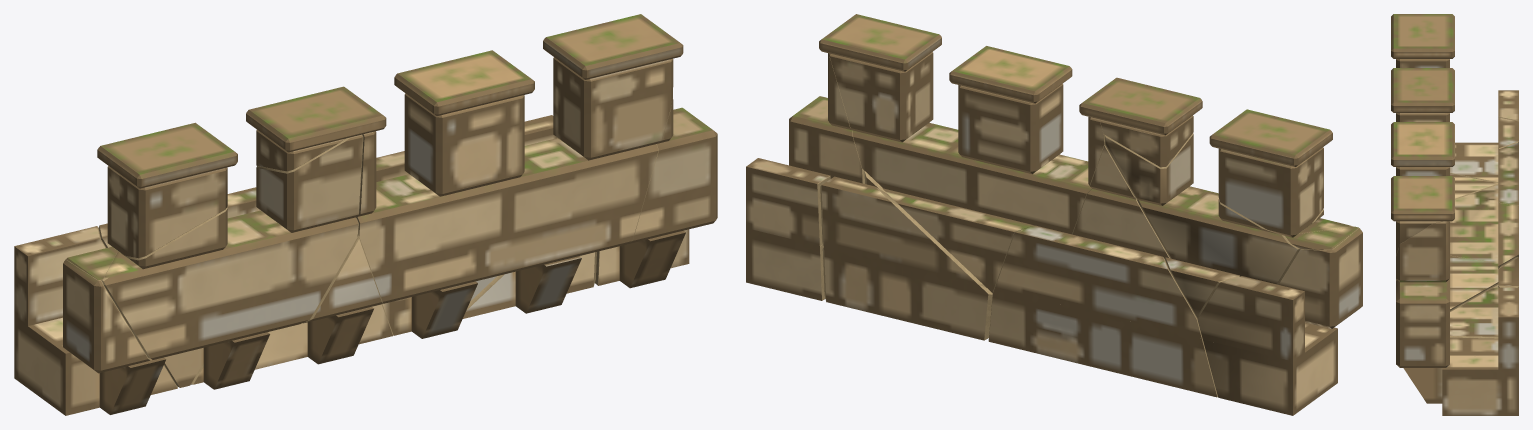
The model's file is Kit_Keep_Crown_Fractured.fbx.
3 renders of one model, left to right at view 1: azimuth 30°, elevation 25°; view 2: azimuth 150°, elevation 25°; view 3: azimuth 270°, elevation 25°, orthographic. The views are drawn at different scales.
Parts seen in each view (by area): view 1: Kit_Keep_Crown_frag_03, Kit_Keep_Crown_frag_04, Kit_Keep_Crown_frag_01, Kit_Keep_Crown_frag_06, Kit_Keep_Crown_frag_02, Kit_Keep_Crown_frag_05, Kit_Keep_Crown_frag_07; view 2: Kit_Keep_Crown_frag_03, Kit_Keep_Crown_frag_05, Kit_Keep_Crown_frag_06, Kit_Keep_Crown_frag_01, Kit_Keep_Crown_frag_07, Kit_Keep_Crown_frag_02, Kit_Keep_Crown_frag_04; view 3: Kit_Keep_Crown_frag_02, Kit_Keep_Crown_frag_03, Kit_Keep_Crown_frag_01, Kit_Keep_Crown_frag_05, Kit_Keep_Crown_frag_07, Kit_Keep_Crown_frag_06, Kit_Keep_Crown_frag_04.
Part boxes in pixels (x1,y1,x2,y2): Kit_Keep_Crown_frag_03: (356,14,683,338); Kit_Keep_Crown_frag_04: (98,134,363,389); Kit_Keep_Crown_frag_01: (66,86,386,280); Kit_Keep_Crown_frag_06: (14,226,177,415); Kit_Keep_Crown_frag_02: (595,91,717,288); Kit_Keep_Crown_frag_05: (191,187,393,384); Kit_Keep_Crown_frag_07: (463,115,596,318); Kit_Keep_Crown_frag_03: (819,14,1104,293); Kit_Keep_Crown_frag_05: (988,145,1217,397); Kit_Keep_Crown_frag_06: (1197,228,1362,415); Kit_Keep_Crown_frag_01: (1079,77,1358,249); Kit_Keep_Crown_frag_07: (820,171,992,340); Kit_Keep_Crown_frag_02: (746,53,864,300); Kit_Keep_Crown_frag_04: (1104,133,1352,318); Kit_Keep_Crown_frag_02: (1396,221,1518,415); Kit_Keep_Crown_frag_03: (1391,113,1518,309); Kit_Keep_Crown_frag_01: (1391,14,1454,112); Kit_Keep_Crown_frag_05: (1450,142,1518,263); Kit_Keep_Crown_frag_07: (1450,257,1518,338); Kit_Keep_Crown_frag_06: (1450,90,1518,182); Kit_Keep_Crown_frag_04: (1450,117,1518,199).
Size of what is drawn, in the model's own units: 4.2 by 1.64 by 1.
2 materials, 2 textured.
